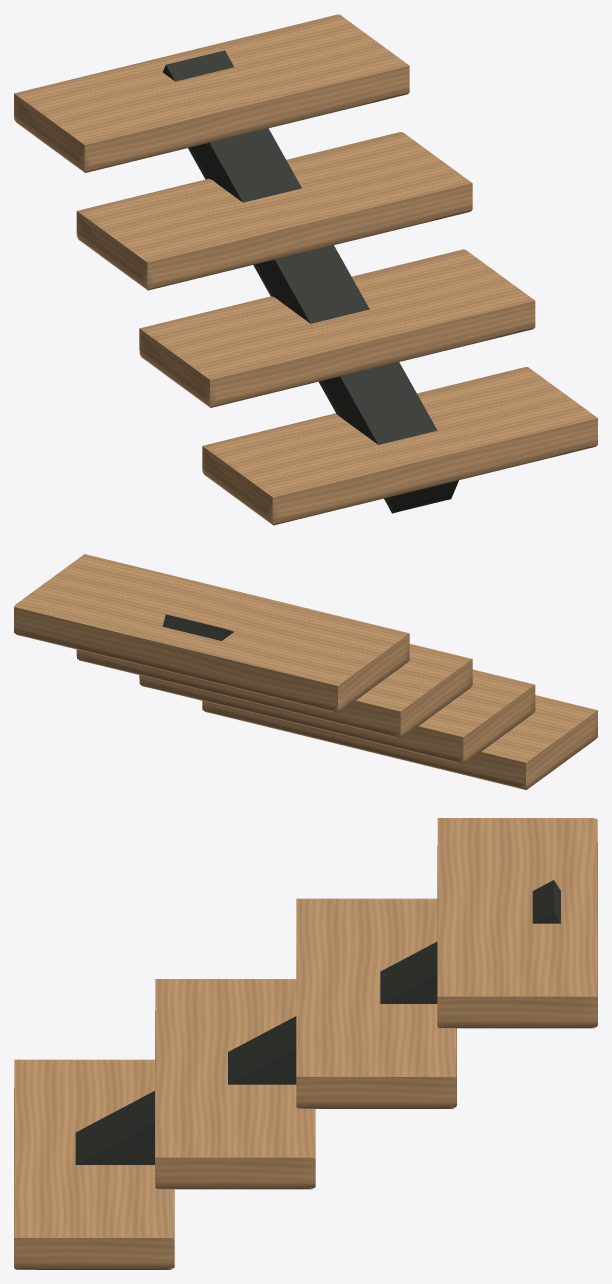
Rendered from measured.glb.
The picture shows the model from 3 angles, top to bottom: view 1: azimuth 30°, elevation 25°; view 2: azimuth 150°, elevation 25°; view 3: azimuth 270°, elevation 25°; orthographic projection. The views are drawn at different scales.
Parts seen in each view (by area): view 1: Floating tread_3, Floating tread_2, Floating tread_1, Floating tread, Central stringer; view 2: Floating tread_3, Floating tread_1, Floating tread_2, Floating tread, Central stringer; view 3: Floating tread_3, Floating tread_2, Floating tread_1, Floating tread, Central stringer.
Boxes of the visible parts, bbox=[...] form: Floating tread_3: bbox=[14, 14, 409, 172]; Floating tread_2: bbox=[76, 132, 472, 290]; Floating tread_1: bbox=[139, 249, 535, 407]; Floating tread: bbox=[202, 367, 597, 525]; Central stringer: bbox=[162, 50, 458, 513]; Floating tread_3: bbox=[14, 554, 409, 712]; Floating tread_1: bbox=[139, 669, 535, 764]; Floating tread_2: bbox=[76, 644, 472, 738]; Floating tread: bbox=[202, 695, 597, 789]; Central stringer: bbox=[162, 614, 233, 640]; Floating tread_3: bbox=[437, 818, 597, 1028]; Floating tread_2: bbox=[296, 898, 456, 1108]; Floating tread_1: bbox=[155, 979, 315, 1189]; Floating tread: bbox=[14, 1059, 174, 1269]; Central stringer: bbox=[75, 880, 560, 1164].
Size of the model in its own units: 0.8821 by 0.7357 by 1.22.
2 materials, 1 textured.
